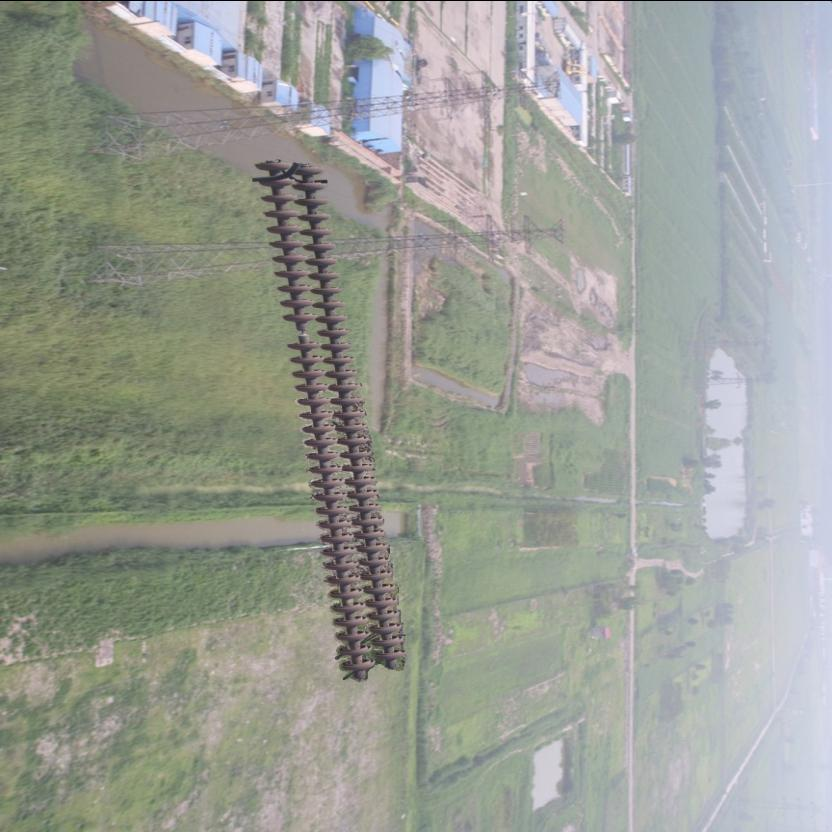defect: (282, 307, 324, 354)
